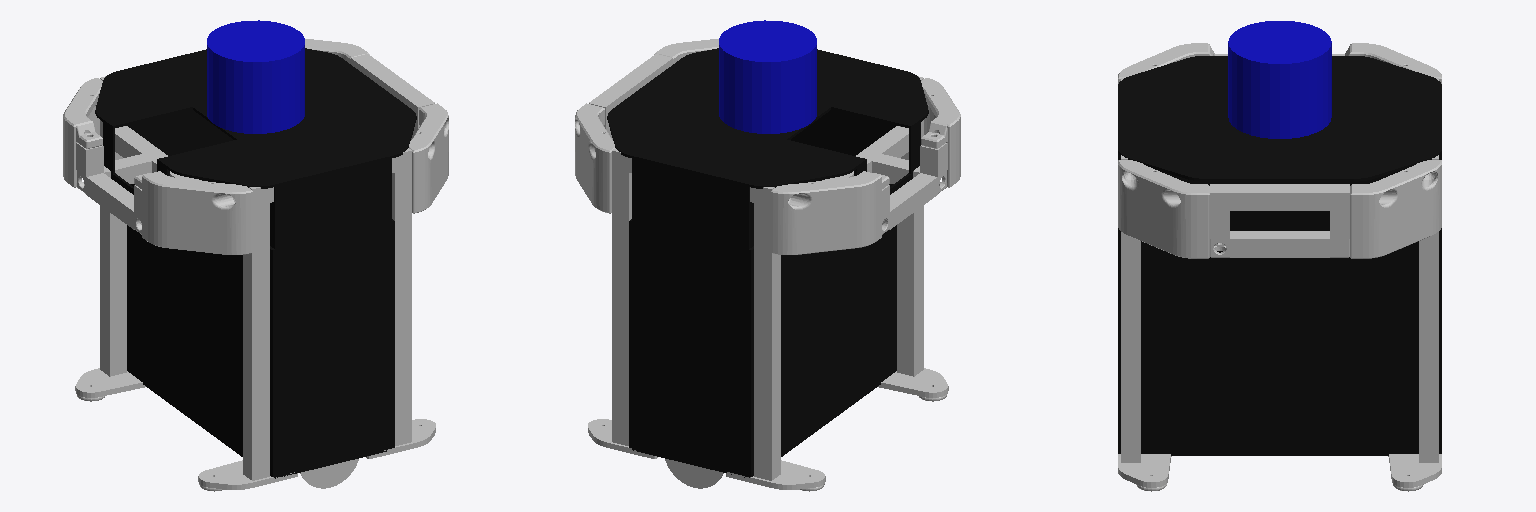
URDF robot description (blue):
<?xml version="1.0"?>
<robot name="blue">

  <!-- MATERIALS -->
  <material name="steel">
    <color rgba="0.8 0.8 0.8 1.0"/>
  </material>

  <material name="orange">
    <color rgba="0.8 0.2 0.0 1.0"/>
  </material>

  <material name="black">
    <color rgba="0.2 0.2 0.2 1.0"/>
  </material>

  <material name="black_plexi">
    <color rgba="0.1 0.1 0.1 1.0"/>
  </material>

  <material name="blue">
    <color rgba="0.1 0.1 0.8 1.0"/>
  </material>

  <material name="yellow">
    <color rgba="0.8 0.7 0.1 1.0"/>
  </material>

  <link name="base_link">
    <visual>
      <geometry>
		<mesh filename="package://ros381_description/meshes/base.stl"/>
      </geometry>
      <origin xyz="0 0 0" rpy="0 0 1.570796327"/>
      <material name="steel"/>
    </visual>
    <inertial>
      <origin xyz="0 0 0.1675"/>
      <mass value="2.0"/>
      <inertia ixx="0.044" iyy="0.02" izz="0.03" ixy="0.0" iyz="0.0" ixz="0.0"/>
    </inertial>
    <collision>
      <origin xyz="0 0 0.000" rpy="0 0 0"/>
      <geometry>
		    <!-- <cylinder radius="0.14" length="0.004"/> -->
        <box size="0.125 0.21 0.004"/>
      </geometry>
    </collision>
  </link>

  <link name="wheel_right">
    <visual>
      <geometry>
        <cylinder radius="0.035" length="0.039"/>
      </geometry>
      <origin rpy="0 0 0"/>
      <material name="orange"/>
    </visual>
    <inertial>
      <origin xyz="0 0 0" rpy="0 0 0"/>
      <mass value="0.1"/>
      <inertia 
        ixx="5e-5" iyy="5e-5" izz="8e-5" 
        ixy="0.0" iyz="0.0" ixz="0.0"/>
    </inertial>
    <collision>
      <origin xyz="0 0 0" rpy="0 0 0"/>
      <geometry>
        <cylinder radius="0.035" length="0.039"/>
      </geometry>
    </collision>
  </link>
  <joint name="wheel_right" type="continuous">
    <parent link="base_link"/>
    <child link="wheel_right"/>
    <axis xyz="0.0 0.0 -1.0"/>
    <origin xyz="0.0 -0.07725 0.032" rpy="1.570796327 0 0"/>
  </joint> 
  
  <link name="wheel_left">
    <visual>
      <geometry>
        <cylinder radius="0.035" length="0.039"/>
      </geometry>
      <origin rpy="0 0 0"/>
      <material name="orange"/>
    </visual>
    <inertial>
      <origin xyz="0 0 0" rpy="0 0 0"/>
      <mass value="0.1"/>
      <inertia 
        ixx="5e-5" iyy="5e-5" izz="8e-5" 
        ixy="0.0" iyz="0.0" ixz="0.0"/>
    </inertial>
    <collision>
      <origin xyz="0 0 0" rpy="0 0 0"/>
      <geometry>
        <cylinder radius="0.035" length="0.039"/>
      </geometry>
    </collision>
  </link>
  <joint name="wheel_left" type="continuous">
    <parent link="base_link"/>
    <child link="wheel_left"/>
    <axis xyz="0.0 0.0 -1.0"/>
    <origin xyz="0.0 0.07725 0.032" rpy="1.570796327 0 0"/>
  </joint>

  <link name="right_odometry_block">
    <visual>
      <geometry>
        <box size="0.09 0.015 0.05"/>
      </geometry>
      <origin xyz="0 0 0.025"/>
      <material name="steel"/>
    </visual>
    <collision>
      <origin xyz="0 0 0.025"/>
      <geometry>
        <box size="0.09 0.015 0.05"/>
      </geometry>
    </collision>
    <inertial>
      <origin xyz="0 0 0.025" rpy="0 0 0"/>
      <mass value="0.0622"/>
      <inertia 
        ixx="1.41e-5" iyy="5.49e-5" izz="4.31e-5" 
        ixy="0.0" iyz="0.0" ixz="0.0"/>
    </inertial>
  </link>
  <joint name="right_odometry_slider" type="prismatic">
    <parent link="base_link"/>
    <child link="right_odometry_block"/>
    <axis xyz="0 0 1"/>
    <limit lower="0.0" upper="0.03" effort="0" velocity="100"/>
    <dynamics damping="0.1"/>
    <origin xyz="0 -0.134 0.015"/>
  </joint>

  <link name="left_odometry_block">
    <visual>
      <geometry>
        <box size="0.09 0.015 0.05"/>
      </geometry>
      <origin xyz="0 0 0.025"/>
      <material name="steel"/>
    </visual>
    <collision>
      <origin xyz="0 0 0.025"/>
      <geometry>
        <box size="0.09 0.015 0.05"/>
      </geometry>
    </collision>
    <inertial>
      <origin xyz="0 0 0.025" rpy="0 0 0"/>
      <mass value="0.0622"/>
      <inertia 
        ixx="1.41e-5" iyy="5.49e-5" izz="4.31e-5" 
        ixy="0.0" iyz="0.0" ixz="0.0"/>
    </inertial>
  </link>
  <joint name="left_odometry_slider" type="prismatic">
    <parent link="base_link"/>
    <child link="left_odometry_block"/>
    <axis xyz="0 0 1"/>
    <limit lower="0.0" upper="0.03" effort="0" velocity="100"/>
    <dynamics damping="0.1"/>
    <origin xyz="0 0.134 0.015"/>
  </joint>

  <link name="odometry_wheel_right">
    <visual>
      <geometry>
        <cylinder radius="0.036" length="0.002"/>
      </geometry>
      <origin rpy="0 0 0"/>
      <material name="steel"/>
    </visual>
    <inertial>
      <origin xyz="0 0 0" rpy="0 0 0"/>
      <mass value="0.055"/>
      <inertia 
        ixx="1.79e-5" iyy="1.79e-5" izz="3.56e-5" 
        ixy="0.0" iyz="0.0" ixz="0.0"/>
    </inertial>
    <collision>
      <origin xyz="0 0 0" rpy="0 0 0"/>
      <geometry>
        <cylinder radius="0.036" length="0.002"/>
      </geometry>
    </collision>
  </link>
  <joint name="odometry_wheel_right" type="continuous">
    <parent link="right_odometry_block"/>
    <child link="odometry_wheel_right"/>
    <axis xyz="0.0 0.0 -1.0"/>
    <origin xyz="0 -0.0145 0" rpy="1.570796327 0 0"/>
  </joint> 

  <link name="odometry_wheel_left">
    <visual>
      <geometry>
        <cylinder radius="0.036" length="0.002"/>
      </geometry>
      <origin rpy="0 0 0"/>
      <material name="steel"/>
    </visual>
    <inertial>
      <origin xyz="0 0 0" rpy="0 0 0"/>
      <mass value="0.055"/>
      <inertia 
        ixx="1.79e-5" iyy="1.79e-5" izz="3.56e-5" 
        ixy="0.0" iyz="0.0" ixz="0.0"/>
    </inertial>
    <collision>
      <origin xyz="0 0 0" rpy="0 0 0"/>
      <geometry>
        <cylinder radius="0.036" length="0.002"/>
      </geometry>
    </collision>
  </link>
  <joint name="odometry_wheel_left" type="continuous">
    <parent link="left_odometry_block"/>
    <child link="odometry_wheel_left"/>
    <axis xyz="0.0 0.0 -1.0"/>
    <origin xyz="0 0.0145 0" rpy="1.570796327 0 0"/>
  </joint>

  <link name="armor">
    <visual>
      <geometry>
		<mesh filename="package://ros381_description/meshes/armor.stl"/>
      </geometry>
      <origin xyz="0 0 0" rpy="0 0 0"/>
      <material name="black_plexi"/>
    </visual>
    <inertial>
      <origin xyz="0 0 0.1675"/>
      <mass value="2.0"/>
      <inertia ixx="0.044" iyy="0.02" izz="0.03" ixy="0.0" iyz="0.0" ixz="0.0"/>
    </inertial>
    <collision>
      <origin xyz="0 0 0" rpy="0 0 0"/>
      <geometry>
        <mesh filename="package://ros381_description/meshes/base_collision.stl"/>
      </geometry>
    </collision>
  </link>
  <joint name="armor_joint" type="fixed">
	<parent link="base_link"/>
	<child link="armor"/>
    <origin xyz="0 0 0" rpy="0 0 1.570796327"/>
  </joint>

  <link name="lidar">
	<visual>
	  <geometry>
		<cylinder radius="0.05" length="0.08"/>
	  </geometry>
      <origin xyz="0 0 0" rpy="0 0 0"/>
	  <material name="blue"/>
	</visual>
    <inertial>
      <origin xyz="0 0 0"/>
      <mass value="0.1"/>
	  <inertia ixx="0.00012" iyy="0.00012" izz="0.0001" ixy="0.0" iyz="0.0" ixz="0.0"/>
    </inertial>
    <collision>
      <origin xyz="0 0 0" rpy="0 0 0"/>
      <geometry>
		<cylinder radius="0.05" length="0.08"/>
      </geometry>
    </collision>
  </link>
  <joint name="lidar_joint" type="fixed">
	<parent link="base_link"/>
	<child link="lidar"/>
    <origin xyz="0 0 0.376" rpy="0 0 0"/>
  </joint>

  <webots>
	<device reference="wheel_right" type="RotationalMotor">
      <maxTorque>10</maxTorque>
      <maxVelocity>60</maxVelocity>
      <acceleration>600</acceleration>
    </device>
    <device reference="wheel_left" type="RotationalMotor">
      <maxTorque>10</maxTorque>
      <maxVelocity>60</maxVelocity>
      <acceleration>600</acceleration>
    </device>
    <device reference="right_odometry_slider" type="LinearMotor">
      <maxForce>1</maxForce>
      <maxVelocity>100</maxVelocity>
      <maxPosition>0.03</maxPosition>
    </device>
    <device reference="left_odometry_slider" type="LinearMotor">
      <maxForce>1</maxForce>
      <maxVelocity>100</maxVelocity>
      <maxPosition>0.03</maxPosition>
    </device>
    <device reference="odometry_wheel_right" type="RotationalMotor">
      <maxTorque>0</maxTorque>
    </device>
    <device reference="odometry_wheel_left" type="RotationalMotor">
      <maxTorque>0</maxTorque>
    </device>
    <plugin type="ros381_webots.motor_driver.MotorDriver"/>
    <plugin type="ros381_webots.encoder_reader.EncoderReader"/>
    <plugin type="ros381_webots.lidar_reader.LidarReader"/>
    <!-- <plugin type="ros381_webots.odometry.OdometryW"/> -->
  </webots>
</robot>

--- Render facts (derived) ---
The picture shows the robot from 3 angles, left to right: view 1: azimuth 30°, elevation 25°; view 2: azimuth 150°, elevation 25°; view 3: azimuth 270°, elevation 25°; orthographic projection.
Robot: blue — 9 links, 8 joints (4 continuous, 2 prismatic, 2 fixed); root link base_link; default pose: every joint at zero.
Visible links, largest first — view 1: armor, base_link, lidar, odometry_wheel_right; view 2: armor, base_link, lidar, odometry_wheel_left; view 3: armor, base_link, lidar.
Link boxes in pixels (left/top/right/bottom): armor: left=95, top=48, right=416, bottom=478; base_link: left=63, top=39, right=448, bottom=491; lidar: left=207, top=20, right=304, bottom=133; odometry_wheel_right: left=300, top=459, right=358, bottom=488; armor: left=607, top=48, right=928, bottom=477; base_link: left=575, top=39, right=960, bottom=491; lidar: left=719, top=20, right=816, bottom=133; odometry_wheel_left: left=665, top=459, right=723, bottom=488; armor: left=1118, top=56, right=1441, bottom=455; base_link: left=1118, top=43, right=1441, bottom=491; lidar: left=1228, top=21, right=1331, bottom=138.
Size in the robot's own frame: 0.346 by 0.314 by 0.437 metres.
Meshes: 2 distinct files referenced, 2 mesh visuals loaded (2 binary STL).
